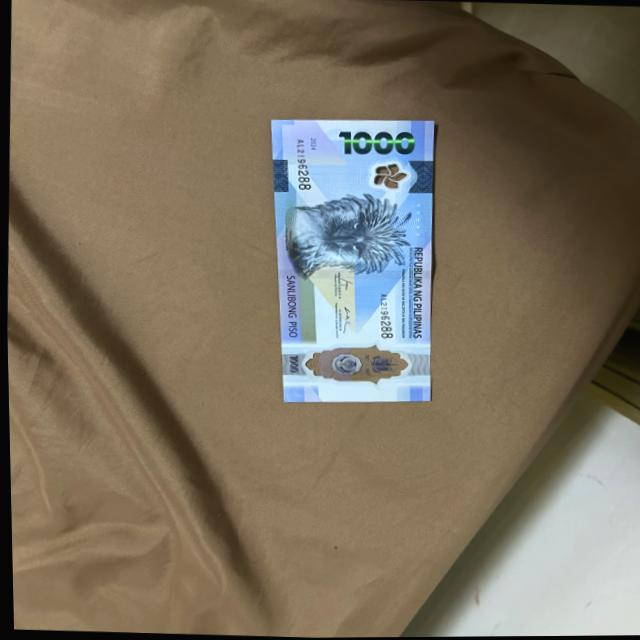clear_window: (302, 343, 411, 384)
eagle: (282, 193, 414, 273)
sampaguita: (367, 162, 405, 193)
